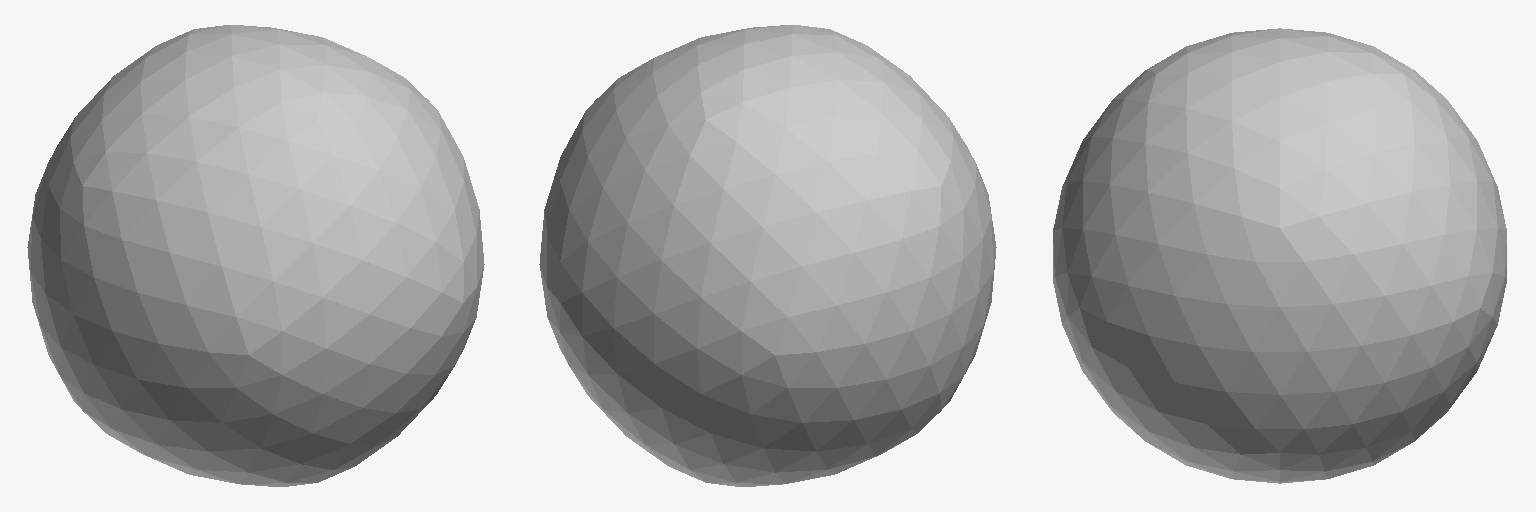
Rendered from sphere_smoothed_100.obj.
The picture shows the model from 3 angles: view 1: azimuth 30°, elevation 25°; view 2: azimuth 150°, elevation 25°; view 3: azimuth 270°, elevation 25°; orthographic projection.
Bounding box in the file's own units: 1.01 × 1.01 × 1.01.